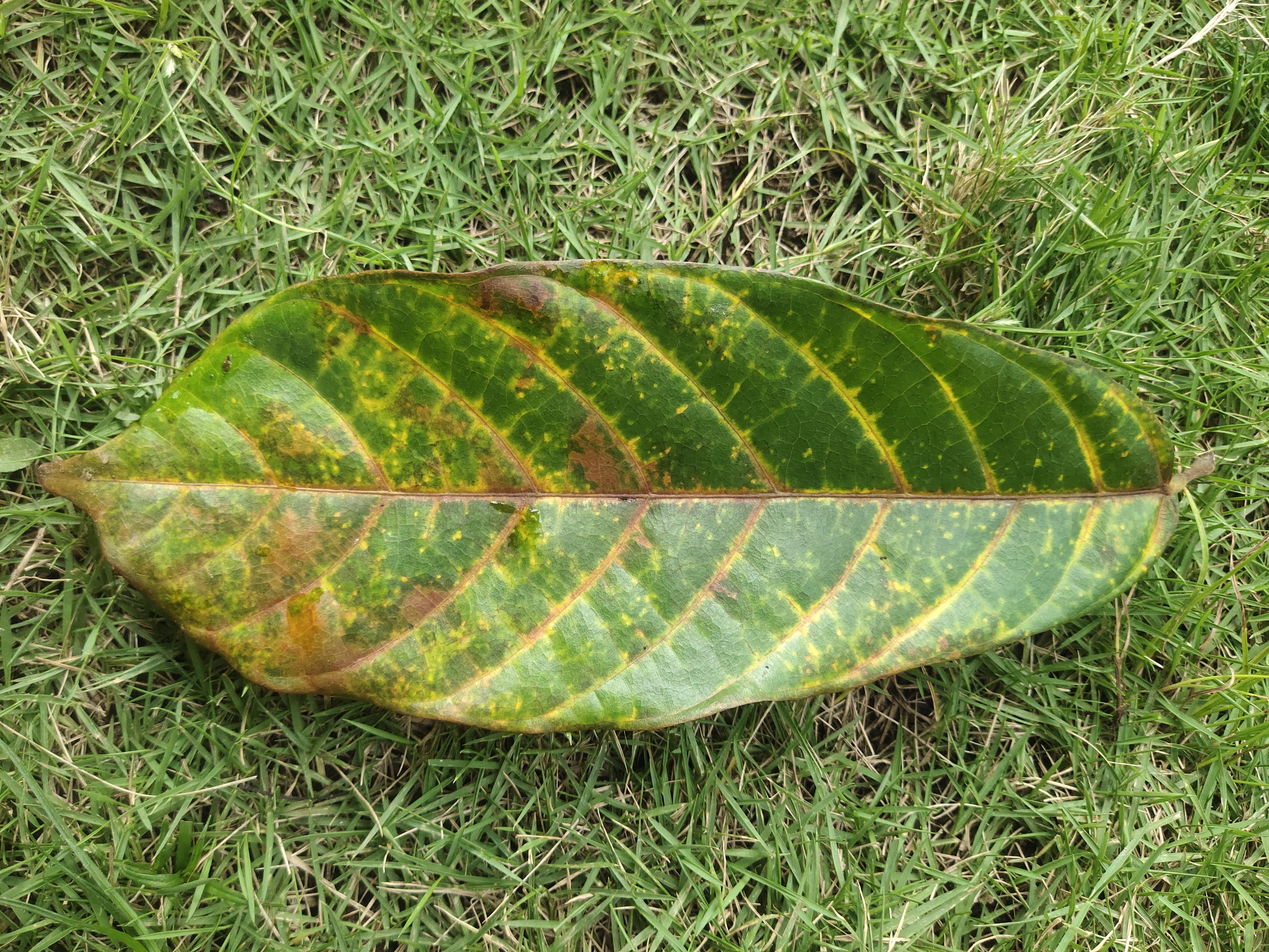deficiencia_potasio: (25, 226, 1212, 734)
